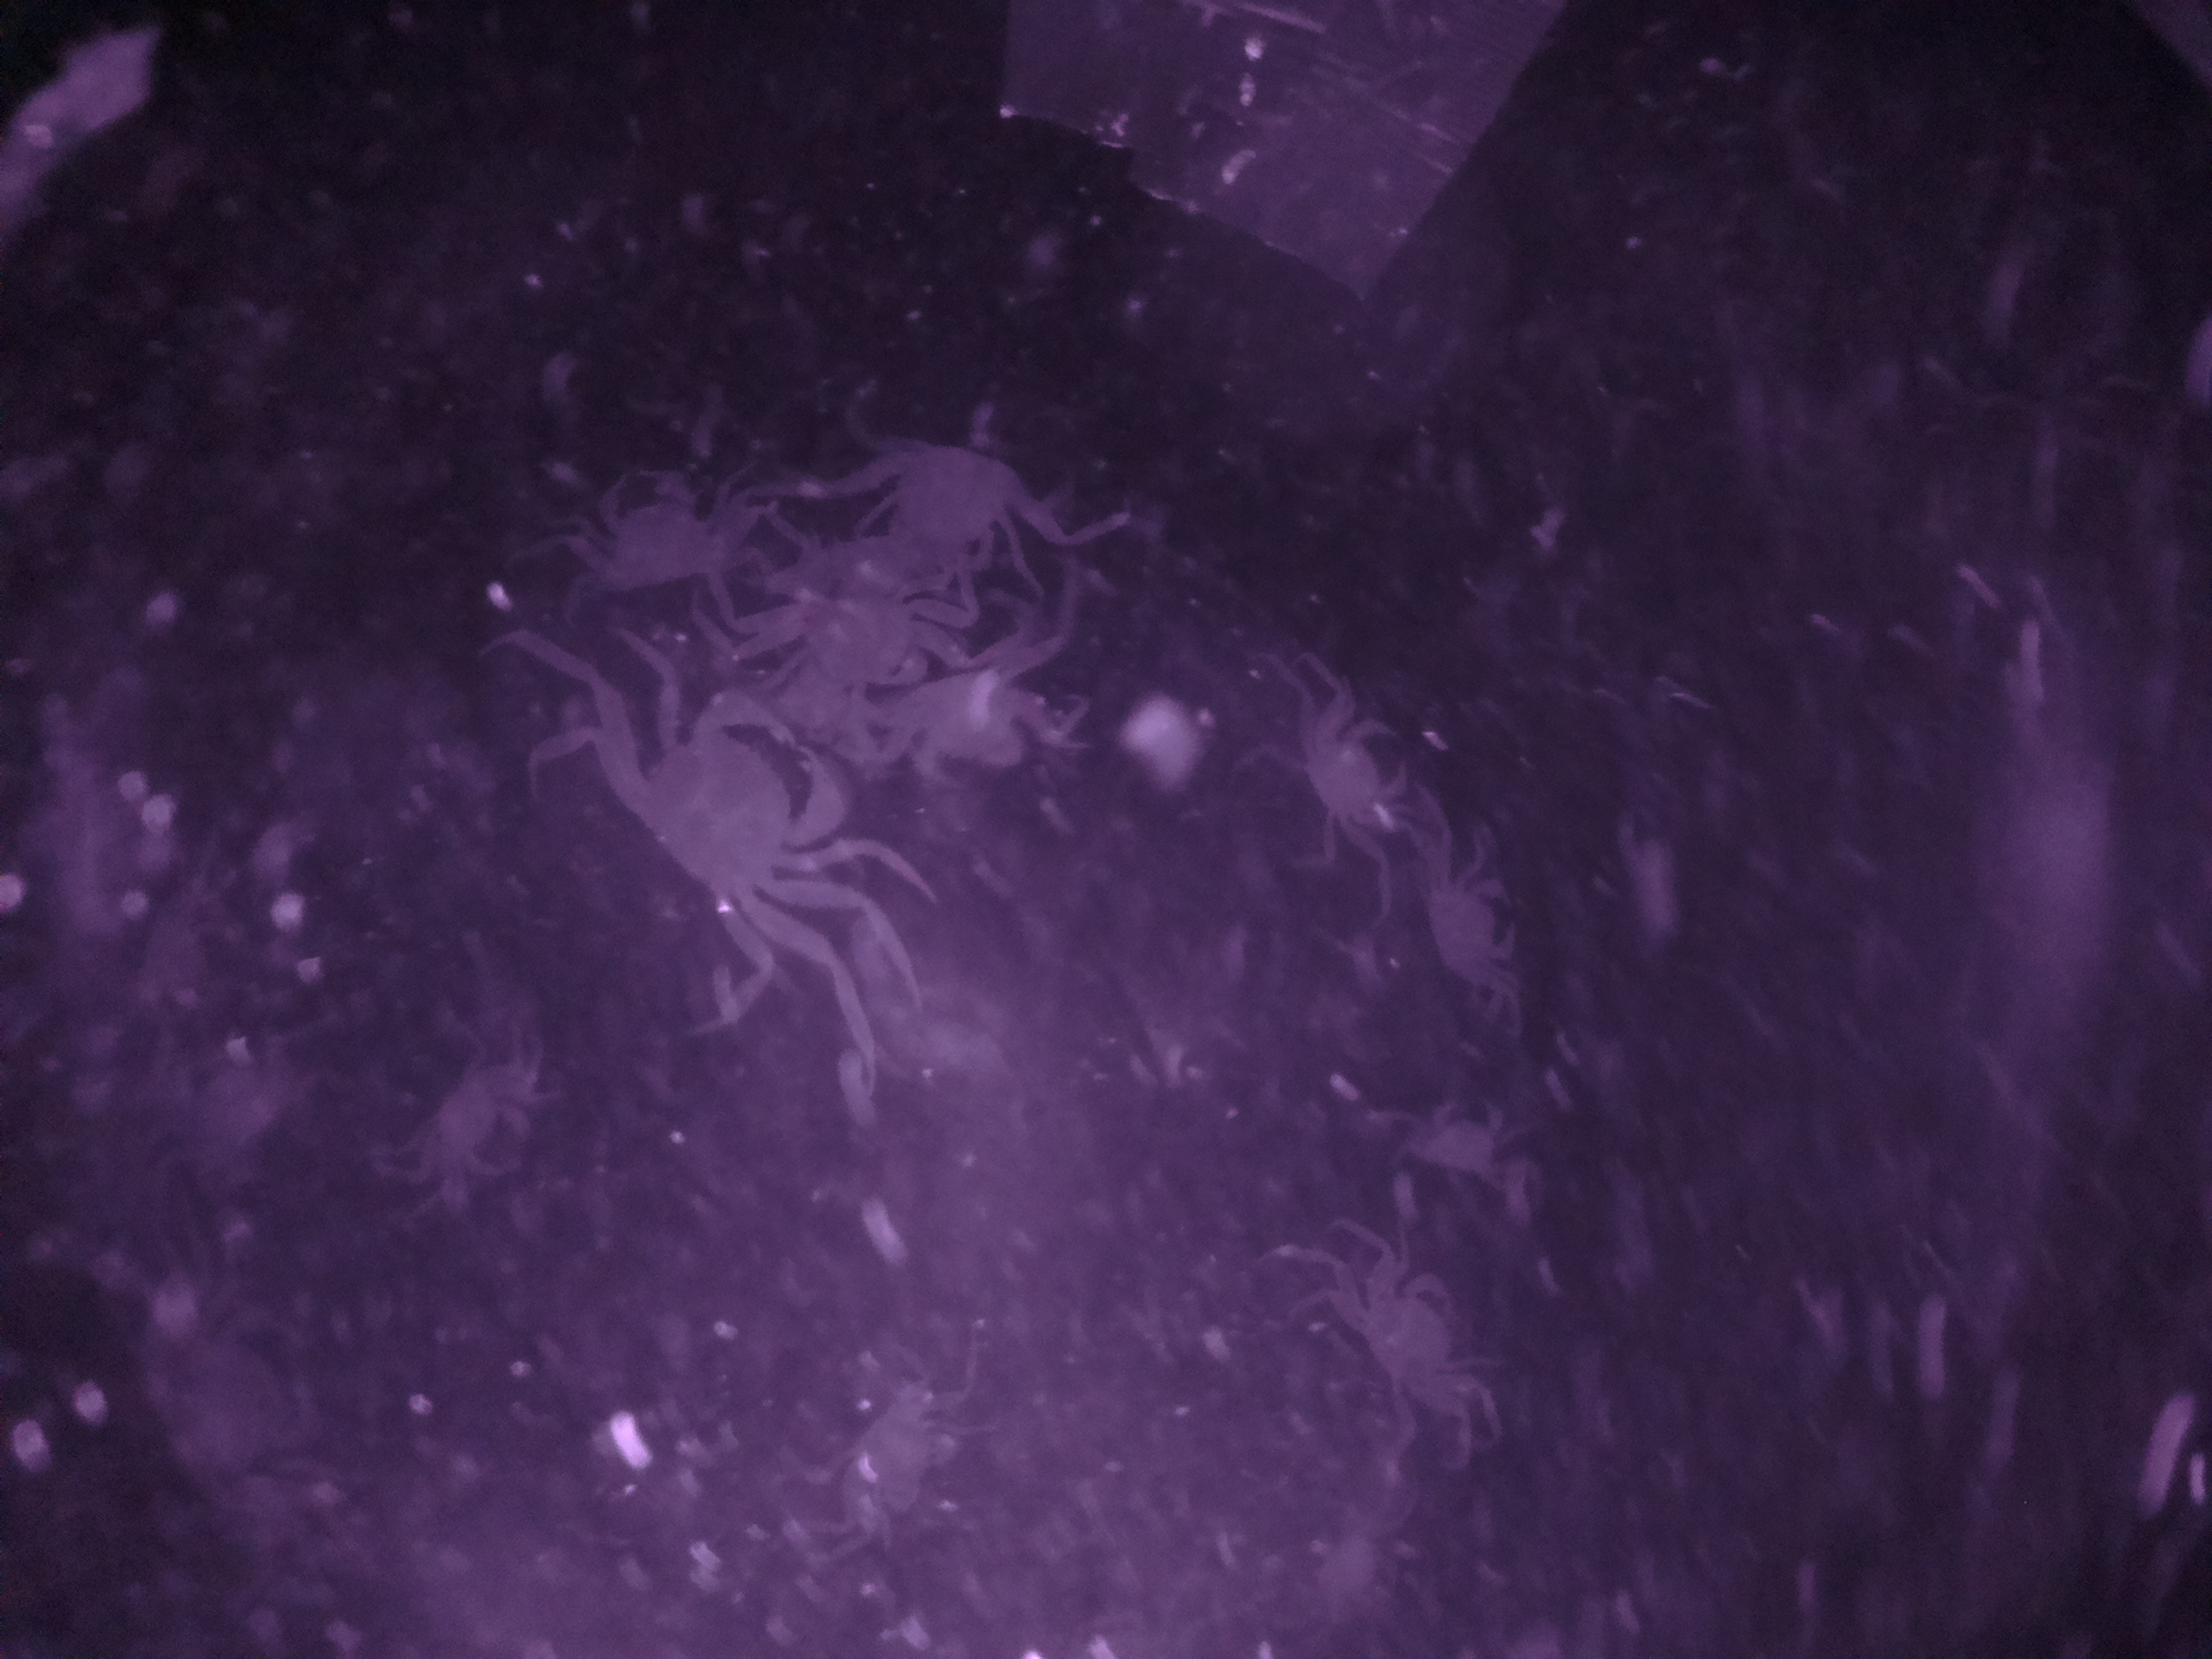Crab: (570, 694, 845, 938), (554, 458, 770, 608), (1336, 1244, 1494, 1429), (1282, 687, 1416, 863), (1413, 840, 1536, 1030)
